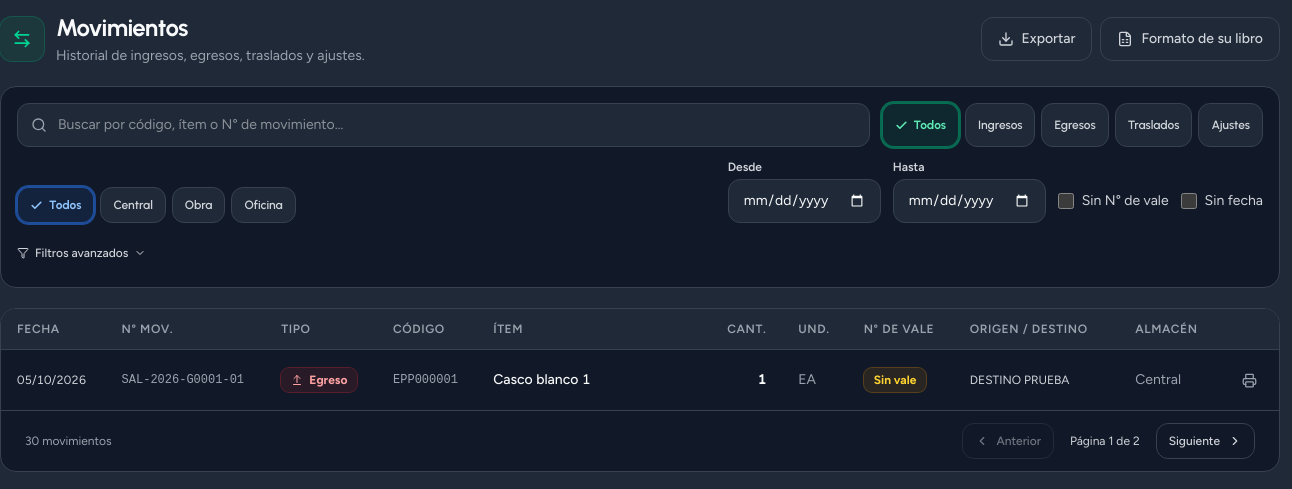
Scenario: MovimientosPage — paginación › «Anterior» está desactivado en la primera página y «Siguiente» en la última
Expected: the table is shown, [1,309,1279,410]
Expected: the button "Anterior" is disabled, [962,423,1054,459]
Click the button "Siguiente" at x=1205, y=441, box [1156,423,1255,459]
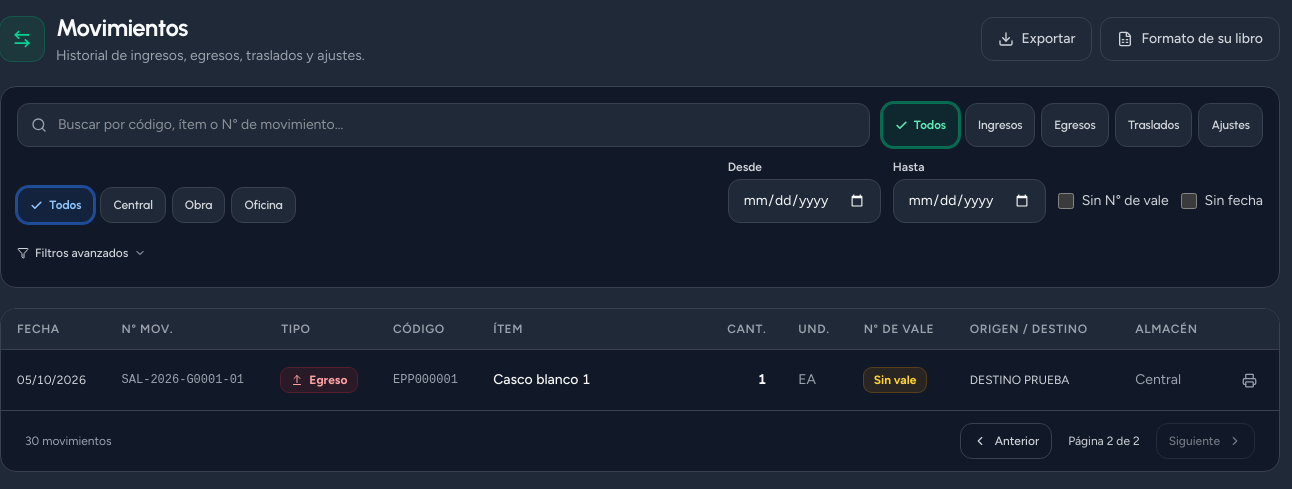
Now the text "Página 2 de 2" is shown, box [1068,434,1140,448]
Now the button "Siguiente" is disabled, box [1156,423,1255,459]
Click the button "Anterior" at x=1006, y=441, box [960,423,1052,459]
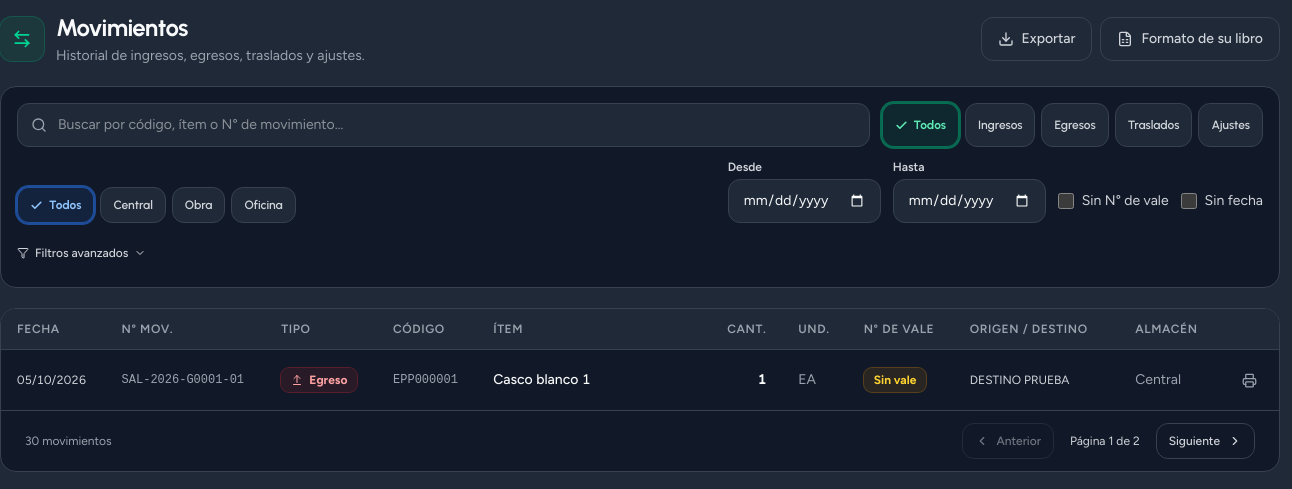
Now the text "Página 1 de 2" is shown, box [1070,434,1140,448]
